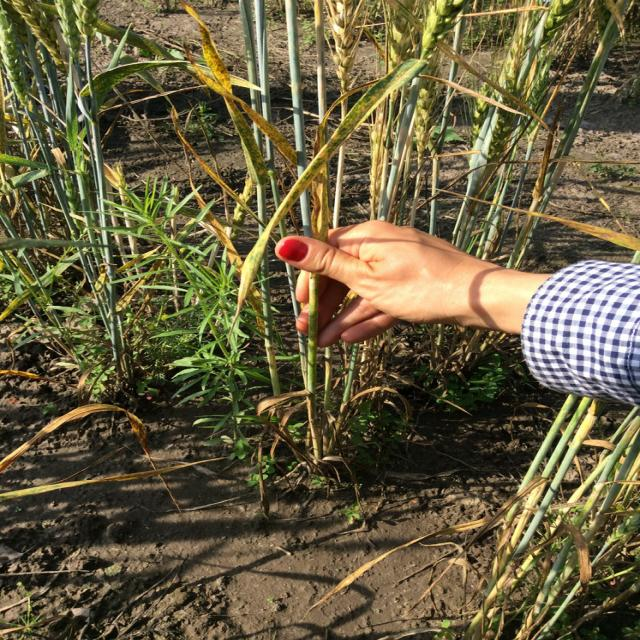wheat-stemrust: (184, 41, 298, 168), (0, 403, 150, 474), (178, 0, 232, 94), (310, 163, 328, 245)
